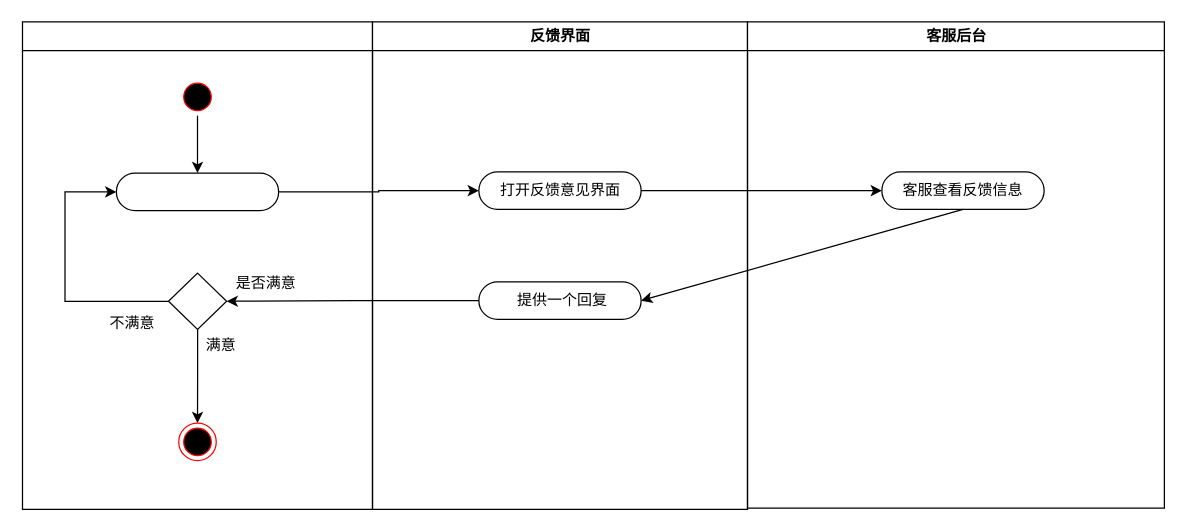
The diagram is 1186 pixels wide and 531 high, and some of its shapes have lost their labels. The box of each missing label's shape, as (x1, y1, x2, y2) in pixels:
点击平台反馈按钮: (115, 172, 279, 211)
用户: (21, 21, 372, 509)
